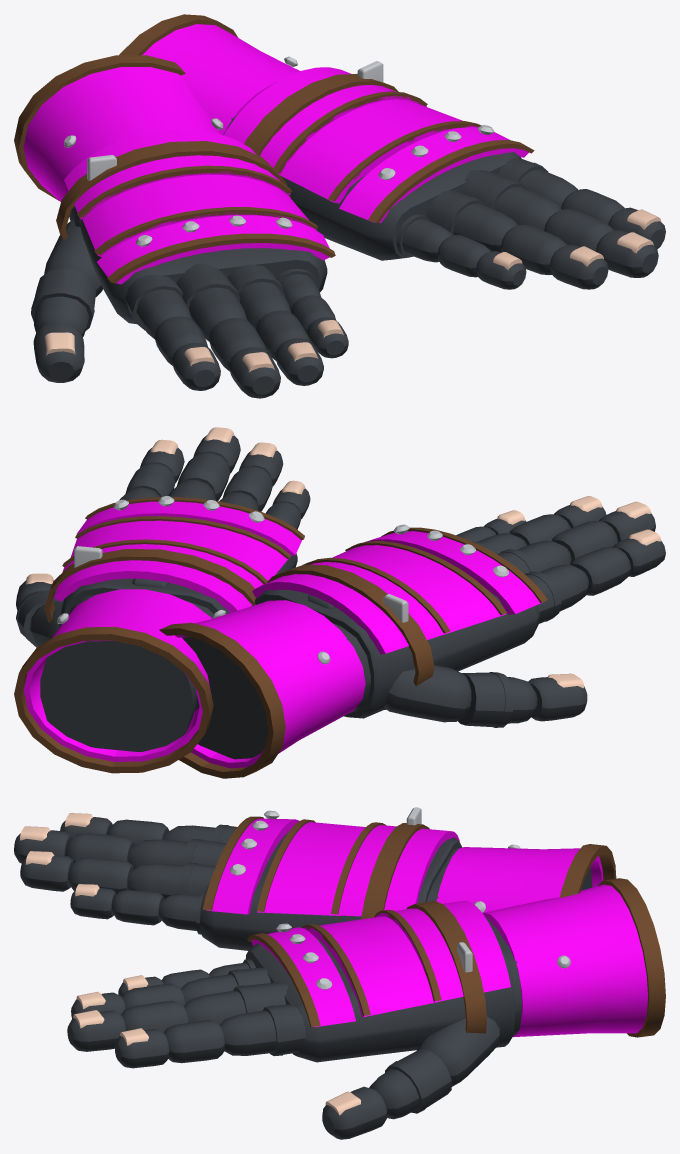
Rendered from objet_armure1_gants.glb.
3 views of the same model, one above another, from view 1: azimuth 30°, elevation 25°; view 2: azimuth 150°, elevation 25°; view 3: azimuth 270°, elevation 25° (orthographic). The views are drawn at different scales.
Visible parts, largest first — view 1: main__gantelet_teinte.021, main__gantelet_teinte.022, manchette__gantelet_teinte.022, main__gantelet_sac_cuir.006, manchette__gantelet_teinte.021, main__gantelet_sac_cuir.005, main.021, main.022, pouce_2.022, annulaire_1.021, majeur_1.021, majeur_1.022 (+27 smaller); view 2: main__gantelet_teinte.022, manchette.021, main__gantelet_teinte.021, manchette__gantelet_teinte.022, main.022, manchette__gantelet_teinte.021, manchette__gantelet_sac_cuir.005, main__gantelet_sac_cuir.006, main__gantelet_sac_cuir.005, manchette.022, manchette__gantelet_sac_cuir.006, pouce_1.022 (+27 smaller); view 3: manchette__gantelet_teinte.021, main__gantelet_teinte.021, main__gantelet_teinte.022, main.021, manchette__gantelet_teinte.022, main__gantelet_sac_cuir.005, main.022, main__gantelet_sac_cuir.006, pouce_2.021, index_1.021, manchette__gantelet_sac_cuir.005, pouce_1.021 (+26 smaller).
Part boxes in pixels (x1,y1,x2,y2): main__gantelet_teinte.021: (224, 67, 529, 222); main__gantelet_teinte.022: (64, 130, 329, 284); manchette__gantelet_teinte.022: (23, 67, 221, 201); main__gantelet_sac_cuir.006: (56, 141, 335, 283); manchette__gantelet_teinte.021: (142, 24, 300, 134); main__gantelet_sac_cuir.005: (244, 73, 534, 222); main.021: (223, 114, 521, 260); main.022: (69, 206, 327, 324); pouce_2.022: (31, 268, 96, 337); annulaire_1.021: (426, 190, 518, 252); majeur_1.021: (460, 170, 561, 230); majeur_1.022: (176, 263, 247, 341); main__gantelet_teinte.022: (252, 531, 544, 654); manchette.021: (40, 641, 196, 751); main__gantelet_teinte.021: (54, 501, 301, 612); manchette__gantelet_teinte.022: (175, 600, 365, 768); main.022: (254, 589, 539, 718); manchette__gantelet_teinte.021: (23, 589, 211, 761); manchette__gantelet_sac_cuir.005: (14, 626, 213, 773); main__gantelet_sac_cuir.006: (266, 527, 547, 709); main__gantelet_sac_cuir.005: (44, 497, 304, 622); manchette.022: (182, 637, 268, 759); manchette__gantelet_sac_cuir.006: (159, 622, 285, 778); pouce_1.022: (384, 665, 471, 722); manchette__gantelet_teinte.021: (483, 884, 647, 1037); main__gantelet_teinte.021: (251, 900, 510, 1027); main__gantelet_teinte.022: (206, 818, 459, 916); main.021: (245, 917, 521, 1062); manchette__gantelet_teinte.022: (436, 847, 603, 913); main__gantelet_sac_cuir.005: (247, 901, 486, 1033); main.022: (200, 827, 462, 950); main__gantelet_sac_cuir.006: (202, 816, 429, 919); pouce_2.021: (369, 1048, 451, 1119); index_1.021: (220, 1004, 305, 1056); manchette__gantelet_sac_cuir.005: (597, 878, 665, 1037); pouce_1.021: (417, 1016, 499, 1086).
Bounding box in the file's own units: 0.3286 × 0.0844 × 0.3517.
